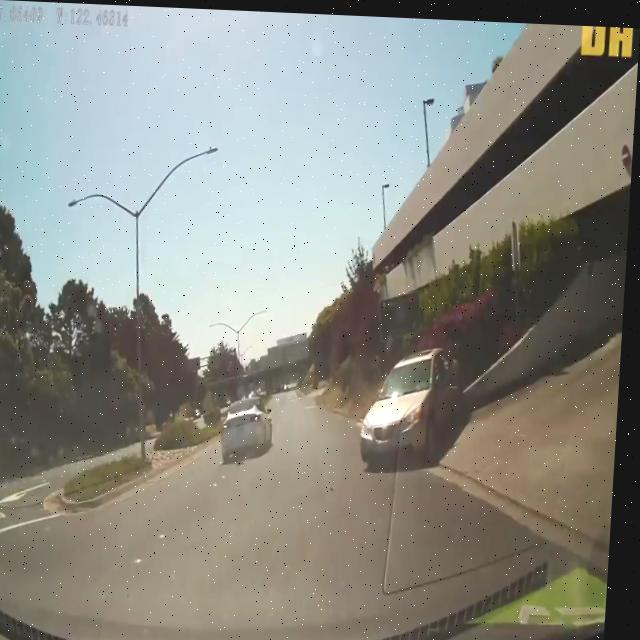single accident: (296, 313, 513, 485)
